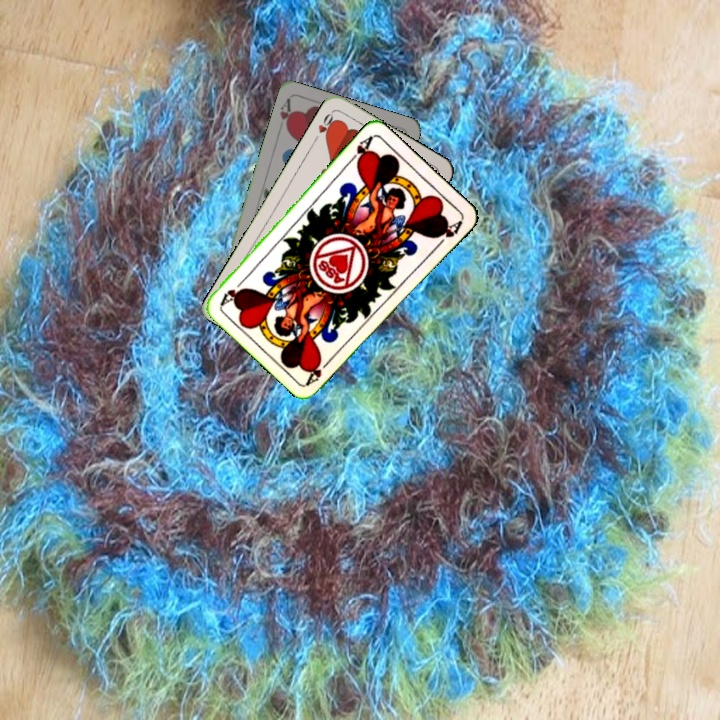HA: (302, 353, 335, 387), (344, 132, 375, 167), (276, 95, 296, 135)
HO: (310, 108, 339, 145)
